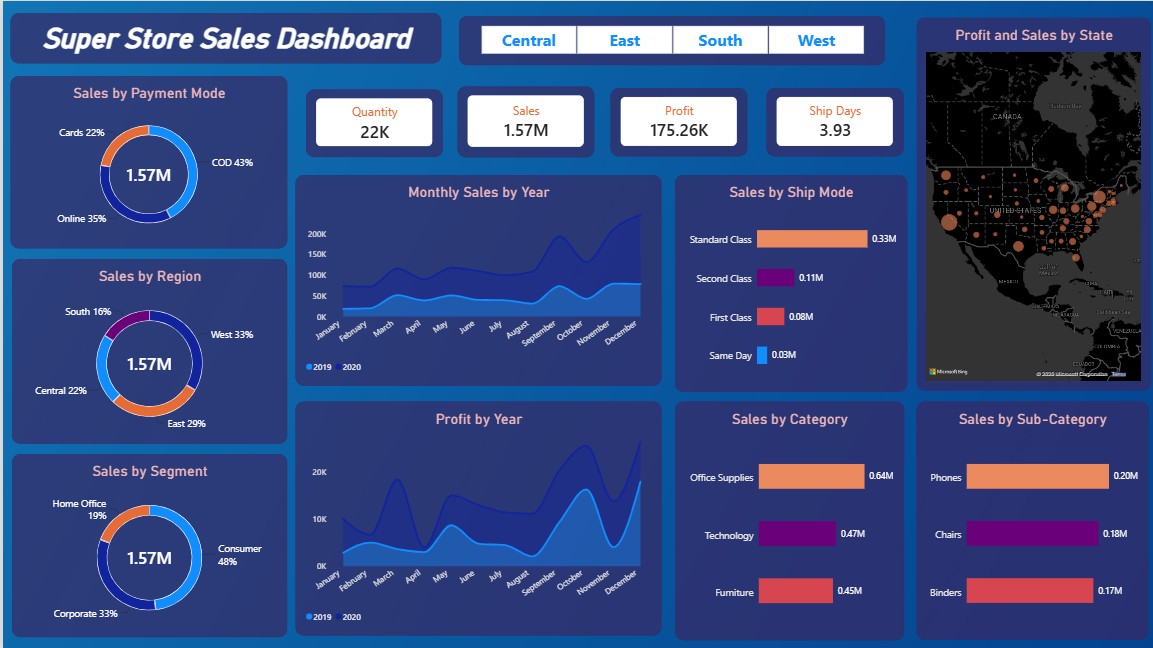

What the dashboard file says about the page in this screenshot:
{"tool":"powerbi","page":{"name":"Page 1","canvas":[1920,1080],"ordinal":0},"visuals":[{"type":"clusteredBarChart","title":"Sales by Category","fields":{"Category":["SuperStore_Sales_Dataset.Category"],"Y":["Sum(SuperStore_Sales_Dataset.Sales)"]},"box":[1120,666.7,382.2,397.8],"z":0},{"type":"clusteredBarChart","title":"Sales by Sub-Category","fields":{"Category":["SuperStore_Sales_Dataset.Sub-Category"],"Y":["Sum(SuperStore_Sales_Dataset.Sales)"]},"box":[1523.1,666.7,387.2,397.4],"z":1000},{"type":"clusteredBarChart","title":"Sales by Ship Mode","fields":{"Category":["SuperStore_Sales_Dataset.Ship Mode"],"Y":["Sum(SuperStore_Sales_Dataset.Sales)"]},"box":[1120.5,289.7,387.2,361.5],"z":2000},{"type":"stackedAreaChart","title":"Monthly Sales by Year","fields":{"Category":["SuperStore_Sales_Dataset.Order Date.Variation.Date Hierarchy.Month","SuperStore_Sales_Dataset.Order Date.Variation.Date Hierarchy.Day"],"Series":["SuperStore_Sales_Dataset.Order Date.Variation.Date Hierarchy.Year"],"Y":["Sum(SuperStore_Sales_Dataset.Sales)"]},"box":[487.2,289.7,610.3,351.3],"z":3000},{"type":"stackedAreaChart","title":"Profit by Year","fields":{"Category":["SuperStore_Sales_Dataset.Order Date.Variation.Date Hierarchy.Month","SuperStore_Sales_Dataset.Order Date.Variation.Date Hierarchy.Day"],"Series":["SuperStore_Sales_Dataset.Order Date.Variation.Date Hierarchy.Year"],"Y":["Sum(SuperStore_Sales_Dataset.Profit)"]},"box":[487.2,666.7,610.3,389.7],"z":4000},{"type":"map","title":"Profit and Sales by State","fields":{"Category":["SuperStore_Sales_Dataset.State"],"Size":["Sum(SuperStore_Sales_Dataset.Sales)"]},"box":[1522.2,26.7,391.1,622.2],"z":5000},{"type":"donutChart","title":"Sales by Segment","fields":{"Category":["SuperStore_Sales_Dataset.Segment"],"Y":["Sum(SuperStore_Sales_Dataset.Sales)"]},"box":[15.4,753.8,459,305.1],"z":6000},{"type":"donutChart","title":"Sales by Payment Mode","fields":{"Category":["SuperStore_Sales_Dataset.Payment Mode"],"Y":["Sum(SuperStore_Sales_Dataset.Sales)"]},"box":[12.8,125.6,461.5,287.2],"z":7000},{"type":"slicer","fields":{"Values":["SuperStore_Sales_Dataset.Region"]},"box":[759,25.6,710.3,82.1],"z":8000},{"type":"textbox","box":[1533,83,150,314],"z":9000},{"type":"textbox","title":"Super Store Sales Dashboard","box":[13.6,20.4,717.7,84],"z":10000},{"type":"cardVisual","fields":{"Data":["Sum(SuperStore_Sales_Dataset.Sales)"]},"box":[756.4,143.6,228,118],"z":11000},{"type":"cardVisual","fields":{"Data":["Sum(SuperStore_Sales_Dataset.Quantity)"]},"box":[505.1,148.7,228.2,112.8],"z":12000},{"type":"cardVisual","fields":{"Data":["Sum(SuperStore_Sales_Dataset.Profit)"]},"box":[1012.8,146.2,228,114],"z":13000},{"type":"cardVisual","fields":{"Data":["Avg(SuperStore_Sales_Dataset.AvgDelivery)"]},"box":[1271.8,146.2,228.6,114.3],"z":13001},{"type":"donutChart","title":"Sales by Region","fields":{"Category":["SuperStore_Sales_Dataset.Region"],"Y":["Sum(SuperStore_Sales_Dataset.Sales)"]},"box":[15.4,430.8,459,307.7],"z":13002}]}

Visuals, with their boxes in screenshot pixels (x1, y1, x2, y2), scaled from the page's 1920x1080 canvas onto the 1153x648 screenshot:
"Sales by Category" clusteredBarChart: locate(673, 400, 902, 639)
"Sales by Sub-Category" clusteredBarChart: locate(915, 400, 1147, 638)
"Sales by Ship Mode" clusteredBarChart: locate(673, 174, 905, 391)
"Monthly Sales by Year" stackedAreaChart: locate(293, 174, 659, 385)
"Profit by Year" stackedAreaChart: locate(293, 400, 659, 634)
"Profit and Sales by State" map: locate(914, 16, 1149, 389)
"Sales by Segment" donutChart: locate(9, 452, 285, 635)
"Sales by Payment Mode" donutChart: locate(8, 75, 285, 248)
slicer - SuperStore_Sales_Dataset.Region: locate(456, 15, 882, 65)
textbox: locate(921, 50, 1011, 238)
"Super Store Sales Dashboard" textbox: locate(8, 12, 439, 63)
cardVisual - Sum(SuperStore_Sales_Dataset.Sales): locate(454, 86, 591, 157)
cardVisual - Sum(SuperStore_Sales_Dataset.Quantity): locate(303, 89, 440, 157)
cardVisual - Sum(SuperStore_Sales_Dataset.Profit): locate(608, 88, 745, 156)
cardVisual - Avg(SuperStore_Sales_Dataset.AvgDelivery): locate(764, 88, 901, 156)
"Sales by Region" donutChart: locate(9, 258, 285, 443)
